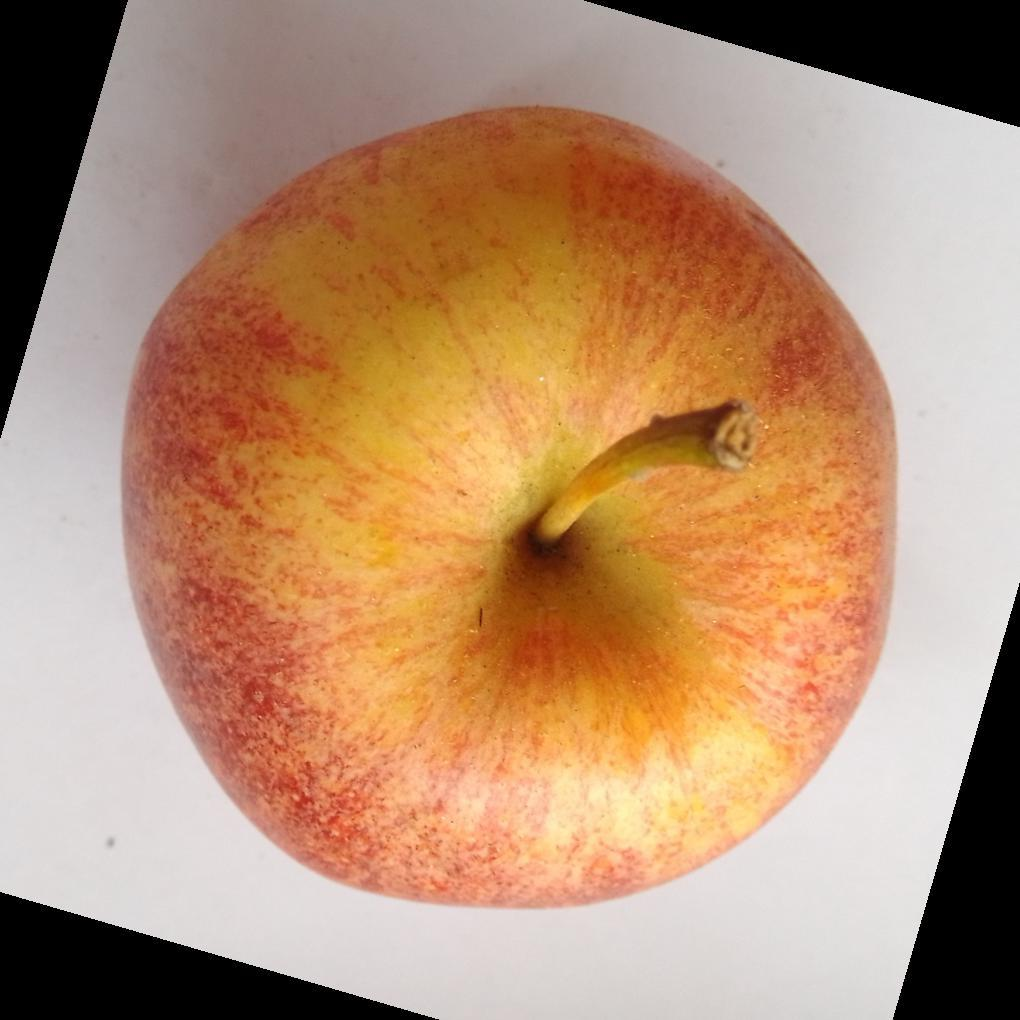FreshGuava: (117, 106, 901, 915)
